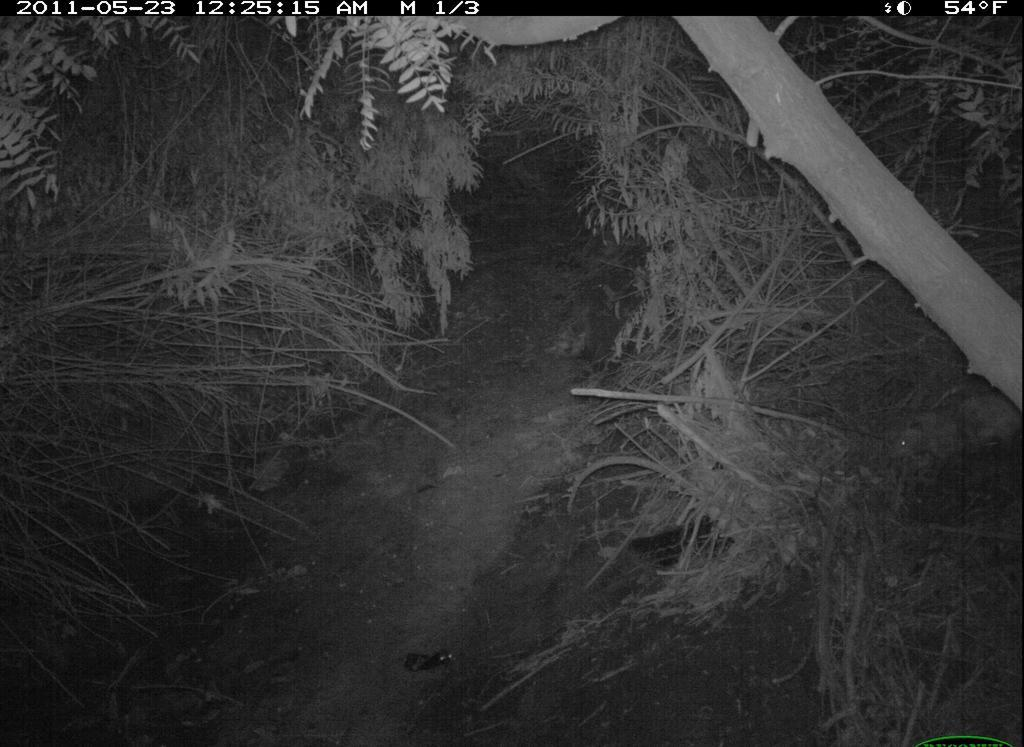opossum: (877, 385, 1023, 501)
